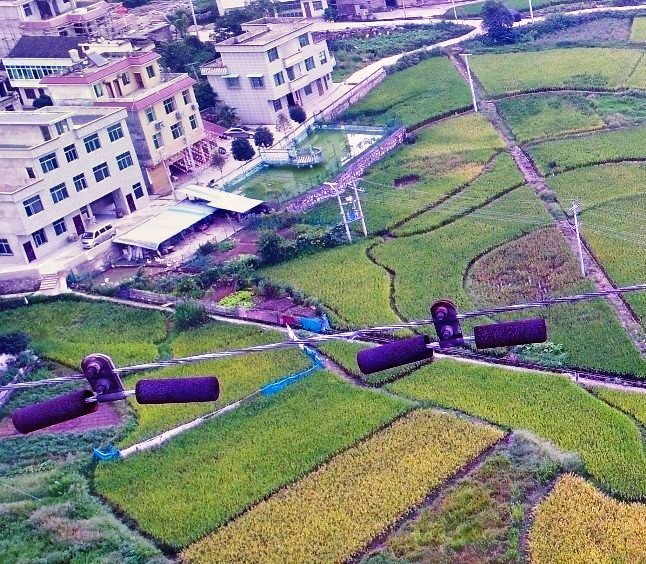Shockproof hammer: (9, 342, 224, 436), (350, 295, 555, 379)
